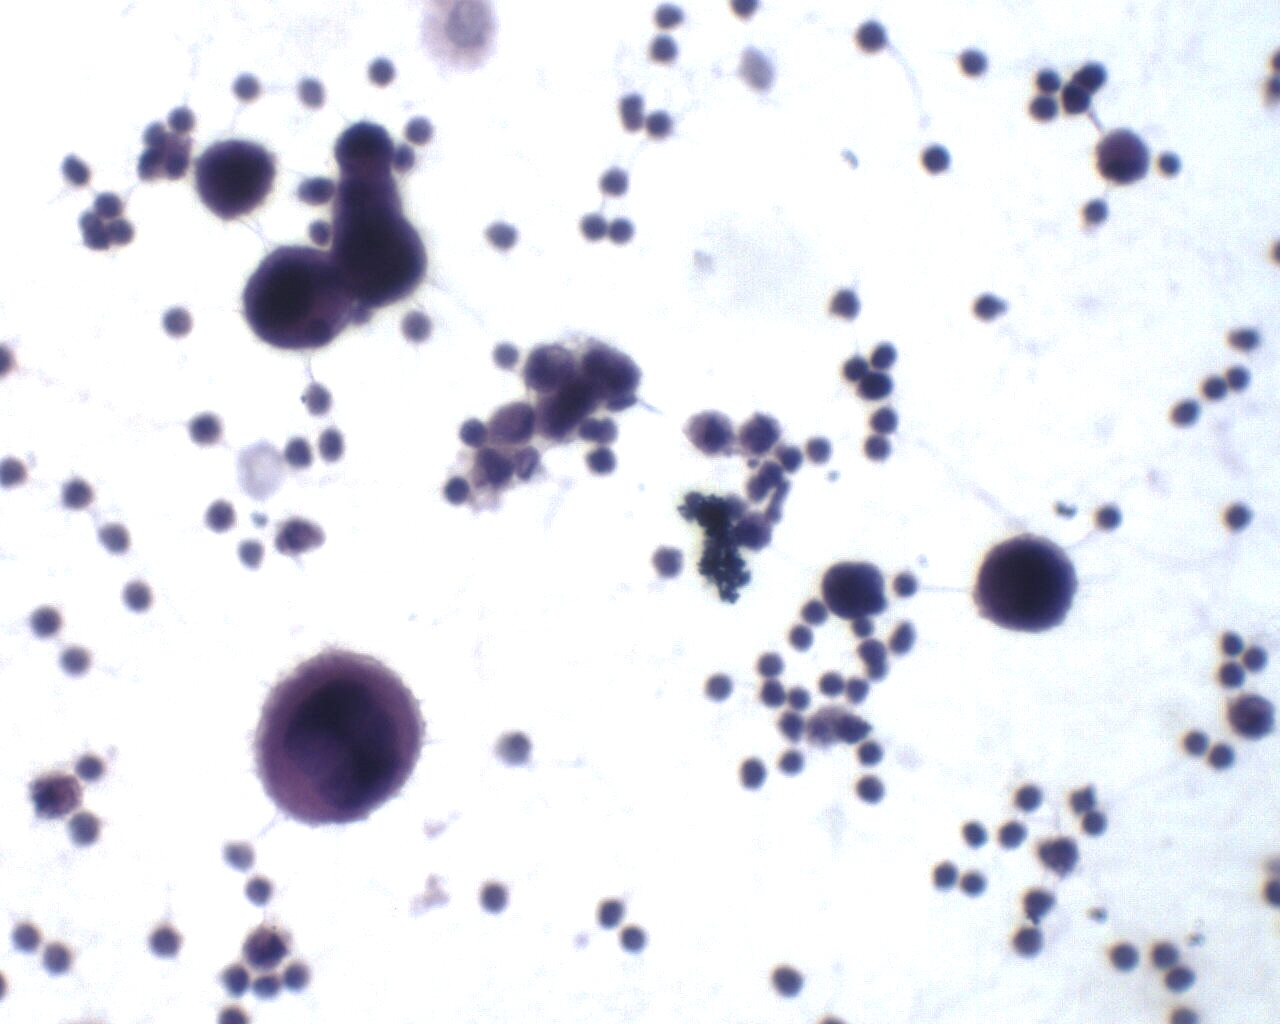ab: (247, 639, 440, 832), (240, 239, 345, 360), (973, 526, 1078, 635), (194, 134, 285, 225)
lymph: (114, 576, 156, 616), (851, 18, 892, 59), (469, 878, 513, 916), (1085, 499, 1126, 539), (731, 751, 771, 791), (914, 141, 956, 179), (158, 303, 197, 342), (850, 772, 891, 809), (7, 915, 43, 958), (1202, 742, 1241, 779), (1220, 494, 1257, 534), (957, 43, 994, 82), (702, 669, 738, 706), (1149, 145, 1185, 183), (365, 54, 403, 89), (970, 288, 1006, 323), (577, 208, 608, 248), (1014, 778, 1047, 815), (441, 470, 473, 506), (957, 866, 990, 899), (863, 433, 893, 466), (614, 924, 650, 952)
meso: (680, 408, 735, 460)
